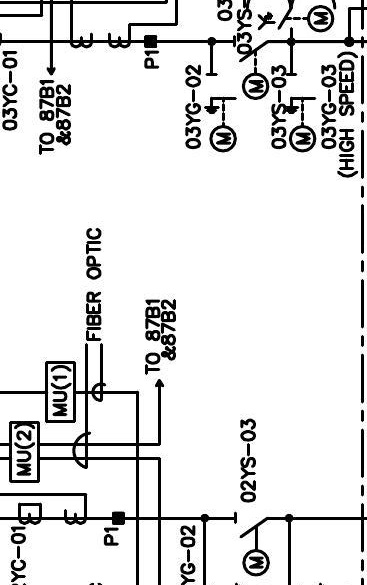115_1way_ds_w_motor: (232, 34, 271, 101), (234, 511, 271, 578), (277, 4, 335, 33)
115_gs_w_motor: (203, 72, 238, 153), (283, 72, 318, 153)
MU: (8, 420, 41, 483), (45, 360, 77, 423)
